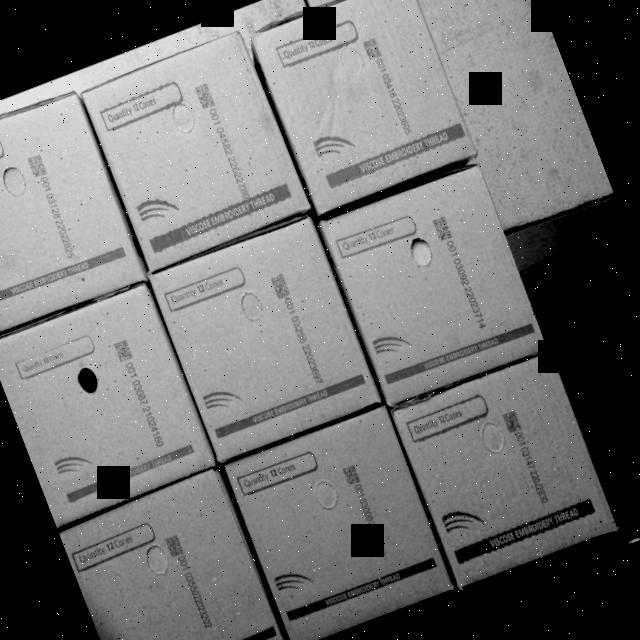box: (81, 31, 312, 273), (320, 158, 548, 402), (150, 216, 379, 458), (225, 404, 456, 640), (395, 354, 620, 589), (0, 283, 213, 525), (245, 0, 480, 215), (59, 472, 290, 640), (0, 89, 148, 339)
